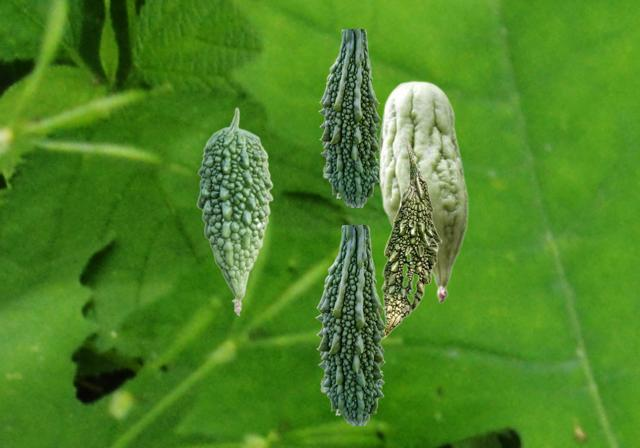ampalaya: (378, 80, 468, 302), (196, 107, 272, 315), (315, 225, 385, 424), (380, 135, 441, 339), (318, 29, 380, 206)
